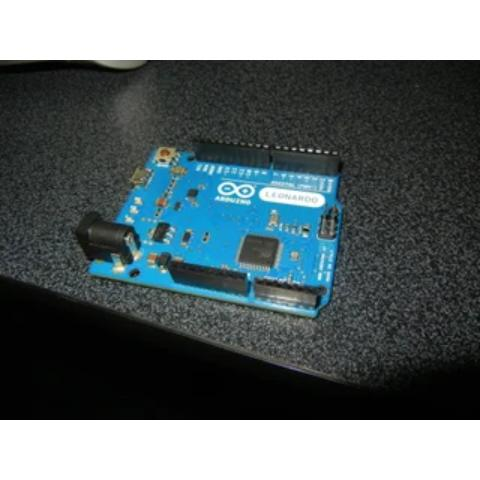Arduino-Leonardo: (73, 129, 351, 325)
